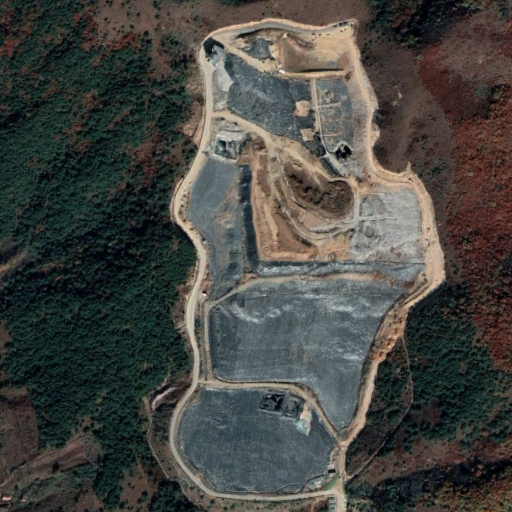lf: (169, 18, 439, 498)
